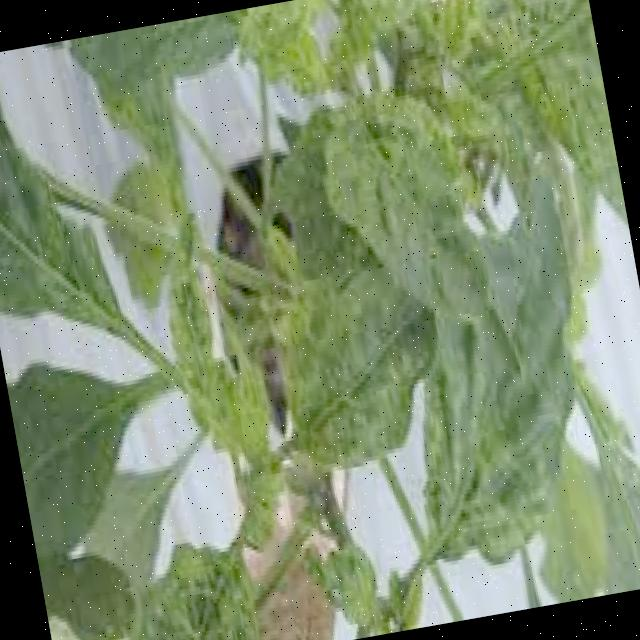leaf curl: (207, 0, 640, 615)
